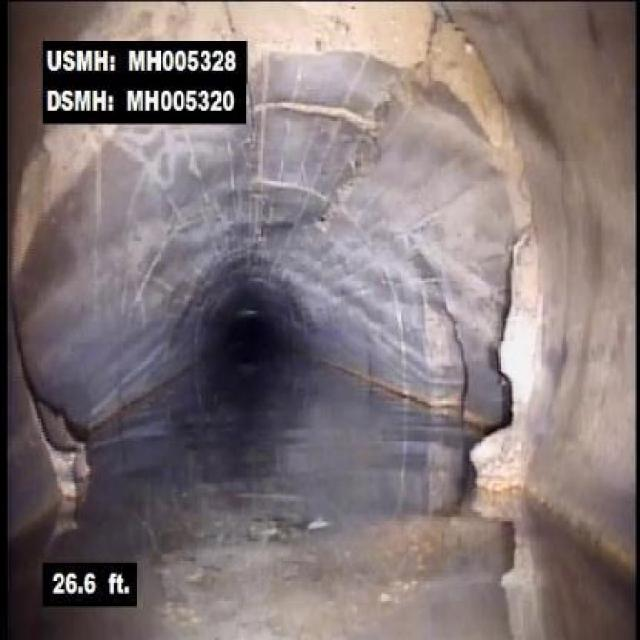Crack: (311, 138, 378, 231), (255, 94, 374, 134), (402, 5, 442, 96)
Joint offset: (441, 32, 534, 230), (12, 128, 103, 283), (248, 3, 392, 75)
